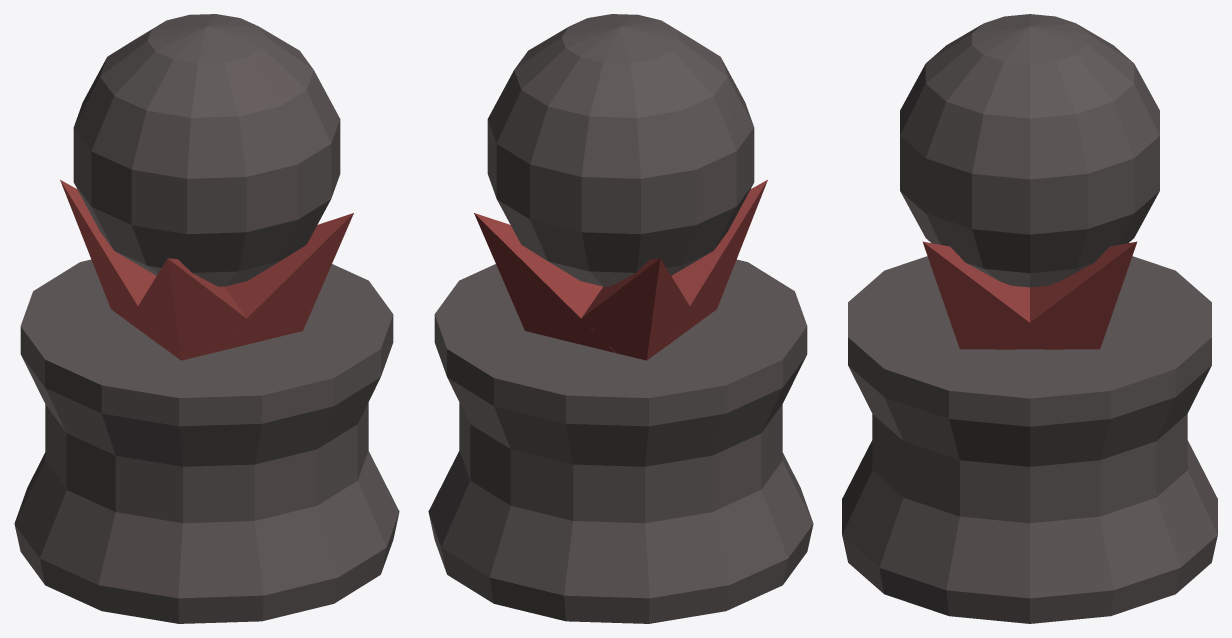
Rendered from void_sculpture_e.obj.
3 renders of one model, left to right at view 1: azimuth 30°, elevation 25°; view 2: azimuth 150°, elevation 25°; view 3: azimuth 270°, elevation 25°, orthographic.
Parts seen in each view (by area): view 1: void_sculpture_e_0, void_sculpture_e_5, void_sculpture_e_3, void_sculpture_e_4, void_sculpture_e_2; view 2: void_sculpture_e_0, void_sculpture_e_5, void_sculpture_e_2, void_sculpture_e_1, void_sculpture_e_3; view 3: void_sculpture_e_0, void_sculpture_e_5, void_sculpture_e_1, void_sculpture_e_4.
Part boxes in pixels (bbox=[...]): void_sculpture_e_0: bbox=[14, 259, 399, 623]; void_sculpture_e_5: bbox=[73, 14, 340, 286]; void_sculpture_e_3: bbox=[128, 258, 272, 360]; void_sculpture_e_4: bbox=[212, 213, 353, 352]; void_sculpture_e_2: bbox=[60, 180, 163, 347]; void_sculpture_e_0: bbox=[428, 259, 813, 623]; void_sculpture_e_5: bbox=[487, 14, 754, 286]; void_sculpture_e_2: bbox=[555, 258, 699, 360]; void_sculpture_e_1: bbox=[474, 213, 615, 352]; void_sculpture_e_3: bbox=[664, 180, 767, 347]; void_sculpture_e_0: bbox=[842, 256, 1217, 623]; void_sculpture_e_5: bbox=[900, 14, 1159, 287]; void_sculpture_e_1: bbox=[995, 241, 1136, 349]; void_sculpture_e_4: bbox=[923, 241, 1064, 349].
Size of the model in its own units: 0.62 by 0.92 by 0.6044.
